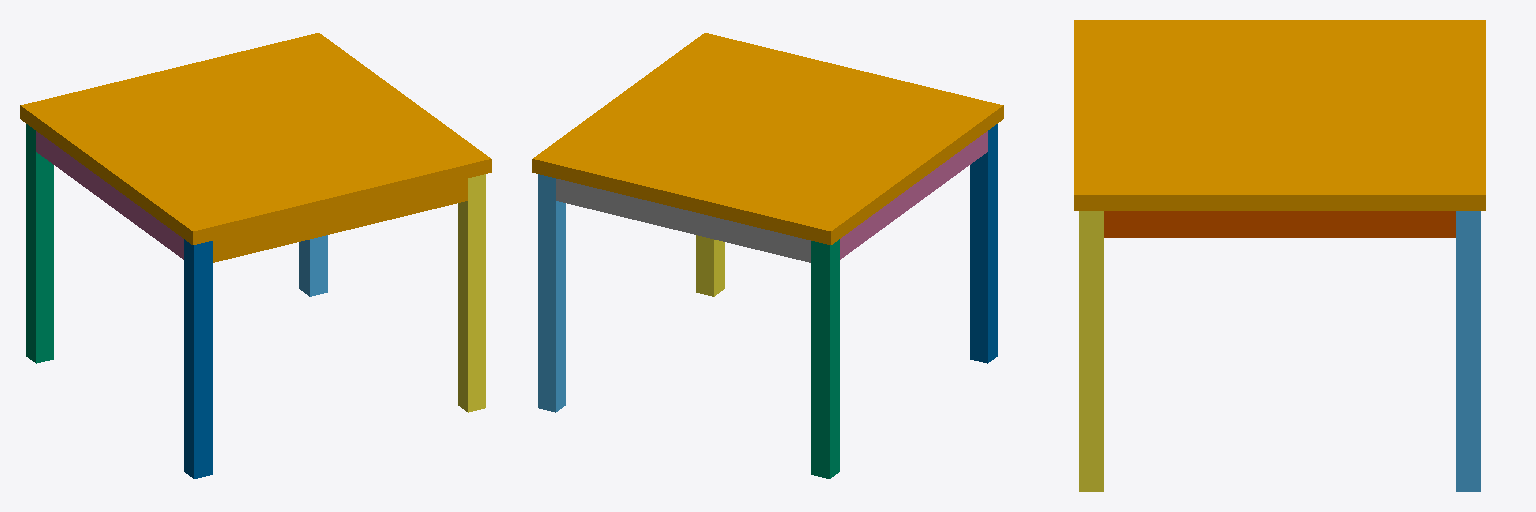
The robot description file, URDF, robot "ikea_bjursta":
<?xml version="1.0" ?>
<!-- =================================================================================== -->
<!-- |    This document was autogenerated by xacro from ikea_bjursta.urdf.xacro        | -->
<!-- |    EDITING THIS FILE BY HAND IS NOT RECOMMENDED                                 | -->
<!-- =================================================================================== -->
<robot name="ikea_bjursta" xmlns:body="http://playerstage.sourceforge.net/gazebo/xmlschema/#body" xmlns:controller="http://playerstage.sourceforge.net/gazebo/xmlschema/#controller" xmlns:gazebo="http://playerstage.sourceforge.net/gazebo/xmlschema/#gz" xmlns:geom="http://playerstage.sourceforge.net/gazebo/xmlschema/#geom" xmlns:interface="http://playerstage.sourceforge.net/gazebo/xmlschema/#interface" xmlns:joint="http://playerstage.sourceforge.net/gazebo/xmlschema/#joint" xmlns:model="http://playerstage.sourceforge.net/gazebo/xmlschema/#model" xmlns:physics="http://playerstage.sourceforge.net/gazebo/xmlschema/#physics" xmlns:renderable="http://playerstage.sourceforge.net/gazebo/xmlschema/#renderable" xmlns:rendering="http://playerstage.sourceforge.net/gazebo/xmlschema/#rendering" xmlns:sensor="http://playerstage.sourceforge.net/gazebo/xmlschema/#sensor" xmlns:xi="http://www.w3.org/2001/XInclude">
  <link name="table_top_link">
    <inertial>
      <mass value="5.0"/>
      <origin xyz="0.0 0.0 0.0"/>
      <inertia ixx="0" ixy="0" ixz="0" iyy="0" iyz="0" izz="0"/>
    </inertial>
    <visual>
      <origin xyz="0.0 0.0 0.72"/>
      <geometry>
        <box size="0.9 0.9 0.04"/>
      </geometry>
    </visual>
    <collision>
      <origin xyz="0.0 0.0 0.72"/>
      <geometry>
        <box size="0.9 0.9 0.04"/>
      </geometry>
    </collision>
  </link>
  <gazebo reference="table_top_link">
    <material>Gazebo/White</material>
    <mu1>50.0</mu1>
    <mu2>50.0</mu2>
    <kp>1000000.0</kp>
    <kd>1.0</kd>
  </gazebo>
  <link name="leg_left_front_link">
    <inertial>
      <origin xyz="0 0 0"/>
      <mass value="3"/>
      <inertia ixx="0" ixy="0" ixz="0" iyy="0" iyz="0" izz="0"/>
    </inertial>
    <visual>
      <origin xyz="0 0 0"/>
      <geometry>
        <box size="0.055 0.055 0.7"/>
      </geometry>
    </visual>
    <collision>
      <origin xyz="0 0 0"/>
      <geometry>
        <box size="0.055 0.055 0.7"/>
      </geometry>
    </collision>
  </link>
  <gazebo reference="legs">
    <material>Gazebo/White</material>
    <turnGravityOff>false</turnGravityOff>
  </gazebo>
  <joint name="leg_left_front_joint" type="fixed">
    <parent link="table_top_link"/>
    <origin rpy="0 0 0" xyz="0.4125 0.4125 0.37"/>
    <child link="leg_left_front_link"/>
  </joint>
  <link name="leg_left_back_link">
    <inertial>
      <origin xyz="0 0 0"/>
      <mass value="3"/>
      <inertia ixx="0" ixy="0" ixz="0" iyy="0" iyz="0" izz="0"/>
    </inertial>
    <visual>
      <origin xyz="0 0 0"/>
      <geometry>
        <box size="0.055 0.055 0.7"/>
      </geometry>
    </visual>
    <collision>
      <origin xyz="0 0 0"/>
      <geometry>
        <box size="0.055 0.055 0.7"/>
      </geometry>
    </collision>
  </link>
  <gazebo reference="legs">
    <material>Gazebo/White</material>
    <turnGravityOff>false</turnGravityOff>
  </gazebo>
  <joint name="leg_left_back_joint" type="fixed">
    <parent link="table_top_link"/>
    <origin rpy="0 0 0" xyz="-0.4125 0.4125 0.37"/>
    <child link="leg_left_back_link"/>
  </joint>
  <link name="leg_right_front_link">
    <inertial>
      <origin xyz="0 0 0"/>
      <mass value="3"/>
      <inertia ixx="0" ixy="0" ixz="0" iyy="0" iyz="0" izz="0"/>
    </inertial>
    <visual>
      <origin xyz="0 0 0"/>
      <geometry>
        <box size="0.055 0.055 0.7"/>
      </geometry>
    </visual>
    <collision>
      <origin xyz="0 0 0"/>
      <geometry>
        <box size="0.055 0.055 0.7"/>
      </geometry>
    </collision>
  </link>
  <gazebo reference="legs">
    <material>Gazebo/White</material>
    <turnGravityOff>false</turnGravityOff>
  </gazebo>
  <joint name="leg_right_front_joint" type="fixed">
    <parent link="table_top_link"/>
    <origin rpy="0 0 0" xyz="0.4125 -0.4125 0.37"/>
    <child link="leg_right_front_link"/>
  </joint>
  <link name="leg_right_back_link">
    <inertial>
      <origin xyz="0 0 0"/>
      <mass value="3"/>
      <inertia ixx="0" ixy="0" ixz="0" iyy="0" iyz="0" izz="0"/>
    </inertial>
    <visual>
      <origin xyz="0 0 0"/>
      <geometry>
        <box size="0.055 0.055 0.7"/>
      </geometry>
    </visual>
    <collision>
      <origin xyz="0 0 0"/>
      <geometry>
        <box size="0.055 0.055 0.7"/>
      </geometry>
    </collision>
  </link>
  <gazebo reference="legs">
    <material>Gazebo/White</material>
    <turnGravityOff>false</turnGravityOff>
  </gazebo>
  <joint name="leg_right_back_joint" type="fixed">
    <parent link="table_top_link"/>
    <origin rpy="0 0 0" xyz="-0.4125 -0.4125 0.37"/>
    <child link="leg_right_back_link"/>
  </joint>
  <link name="lath_left_front_link">
    <inertial>
      <origin xyz="0 0 0"/>
      <mass value="1"/>
      <inertia ixx="0" ixy="0" ixz="0" iyy="0" iyz="0" izz="0"/>
    </inertial>
    <visual>
      <origin xyz="0 0 0"/>
      <geometry>
        <box size="0.02 0.77 0.07"/>
      </geometry>
    </visual>
    <collision>
      <origin xyz="0 0 0"/>
      <geometry>
        <box size="0.02 0.77 0.07"/>
      </geometry>
    </collision>
  </link>
  <gazebo reference="structure_lath">
    <material>Gazebo/White</material>
    <turnGravityOff>false</turnGravityOff>
  </gazebo>
  <joint name="lath_left_front_joint" type="fixed">
    <parent link="table_top_link"/>
    <origin rpy="0 0 0" xyz="0.43 0.0 0.665"/>
    <child link="lath_left_front_link"/>
  </joint>
  <link name="lath_left_back_link">
    <inertial>
      <origin xyz="0 0 0"/>
      <mass value="1"/>
      <inertia ixx="0" ixy="0" ixz="0" iyy="0" iyz="0" izz="0"/>
    </inertial>
    <visual>
      <origin xyz="0 0 0"/>
      <geometry>
        <box size="0.02 0.77 0.07"/>
      </geometry>
    </visual>
    <collision>
      <origin xyz="0 0 0"/>
      <geometry>
        <box size="0.02 0.77 0.07"/>
      </geometry>
    </collision>
  </link>
  <gazebo reference="structure_lath">
    <material>Gazebo/White</material>
    <turnGravityOff>false</turnGravityOff>
  </gazebo>
  <joint name="lath_left_back_joint" type="fixed">
    <parent link="table_top_link"/>
    <origin rpy="0 0 0" xyz="-0.43 0.0 0.665"/>
    <child link="lath_left_back_link"/>
  </joint>
  <link name="lath_right_front_link">
    <inertial>
      <origin xyz="0 0 0"/>
      <mass value="1"/>
      <inertia ixx="0" ixy="0" ixz="0" iyy="0" iyz="0" izz="0"/>
    </inertial>
    <visual>
      <origin xyz="0 0 0"/>
      <geometry>
        <box size="0.77 0.02 0.07"/>
      </geometry>
    </visual>
    <collision>
      <origin xyz="0 0 0"/>
      <geometry>
        <box size="0.77 0.02 0.07"/>
      </geometry>
    </collision>
  </link>
  <gazebo reference="structure_lath">
    <material>Gazebo/White</material>
    <turnGravityOff>false</turnGravityOff>
  </gazebo>
  <joint name="lath_right_front_joint" type="fixed">
    <parent link="table_top_link"/>
    <origin rpy="0 0 0" xyz="0.0 0.43 0.665"/>
    <child link="lath_right_front_link"/>
  </joint>
  <link name="lath_right_back_link">
    <inertial>
      <origin xyz="0 0 0"/>
      <mass value="1"/>
      <inertia ixx="0" ixy="0" ixz="0" iyy="0" iyz="0" izz="0"/>
    </inertial>
    <visual>
      <origin xyz="0 0 0"/>
      <geometry>
        <box size="0.77 0.02 0.07"/>
      </geometry>
    </visual>
    <collision>
      <origin xyz="0 0 0"/>
      <geometry>
        <box size="0.77 0.02 0.07"/>
      </geometry>
    </collision>
  </link>
  <gazebo reference="structure_lath">
    <material>Gazebo/White</material>
    <turnGravityOff>false</turnGravityOff>
  </gazebo>
  <joint name="lath_right_back_joint" type="fixed">
    <parent link="table_top_link"/>
    <origin rpy="0 0 0" xyz="0.0 -0.43 0.665"/>
    <child link="lath_right_back_link"/>
  </joint>
</robot>

--- What the picture shows (computed from the rendered views, not written in the file) ---
Views: 3 orthographic renders of the robot side by side, from view 1: azimuth 30°, elevation 25°; view 2: azimuth 150°, elevation 25°; view 3: azimuth 270°, elevation 25°.
Robot: ikea_bjursta — 9 links, 8 joints (8 fixed); root link table_top_link; default pose: every joint at zero.
Links seen in each view (by area): view 1: table_top_link, leg_right_back_link, leg_right_front_link, leg_left_back_link, lath_right_back_link, lath_left_back_link, leg_left_front_link; view 2: table_top_link, leg_left_back_link, leg_left_front_link, leg_right_back_link, lath_right_front_link, lath_left_back_link, leg_right_front_link; view 3: table_top_link, lath_left_front_link, leg_left_front_link, leg_right_front_link.
Link boxes in pixels (x1,y1,x2,y2): table_top_link: (20, 33, 491, 244); leg_right_back_link: (184, 239, 212, 478); leg_right_front_link: (458, 174, 485, 412); leg_left_back_link: (26, 124, 53, 363); lath_right_back_link: (213, 179, 467, 262); lath_left_back_link: (36, 131, 183, 259); leg_left_front_link: (299, 235, 327, 296); table_top_link: (532, 33, 1003, 244); leg_left_back_link: (811, 239, 839, 478); leg_left_front_link: (538, 174, 565, 412); leg_right_back_link: (970, 124, 997, 363); lath_right_front_link: (556, 179, 810, 262); lath_left_back_link: (840, 131, 987, 259); leg_right_front_link: (696, 235, 724, 296); table_top_link: (1074, 20, 1485, 210); lath_left_front_link: (1104, 211, 1455, 237); leg_left_front_link: (1456, 211, 1480, 491); leg_right_front_link: (1079, 211, 1103, 491).
Size in the robot's own frame: 0.9 by 0.9 by 0.72 metres.
Geometry: primitives only (box / cylinder / sphere), no mesh files.
